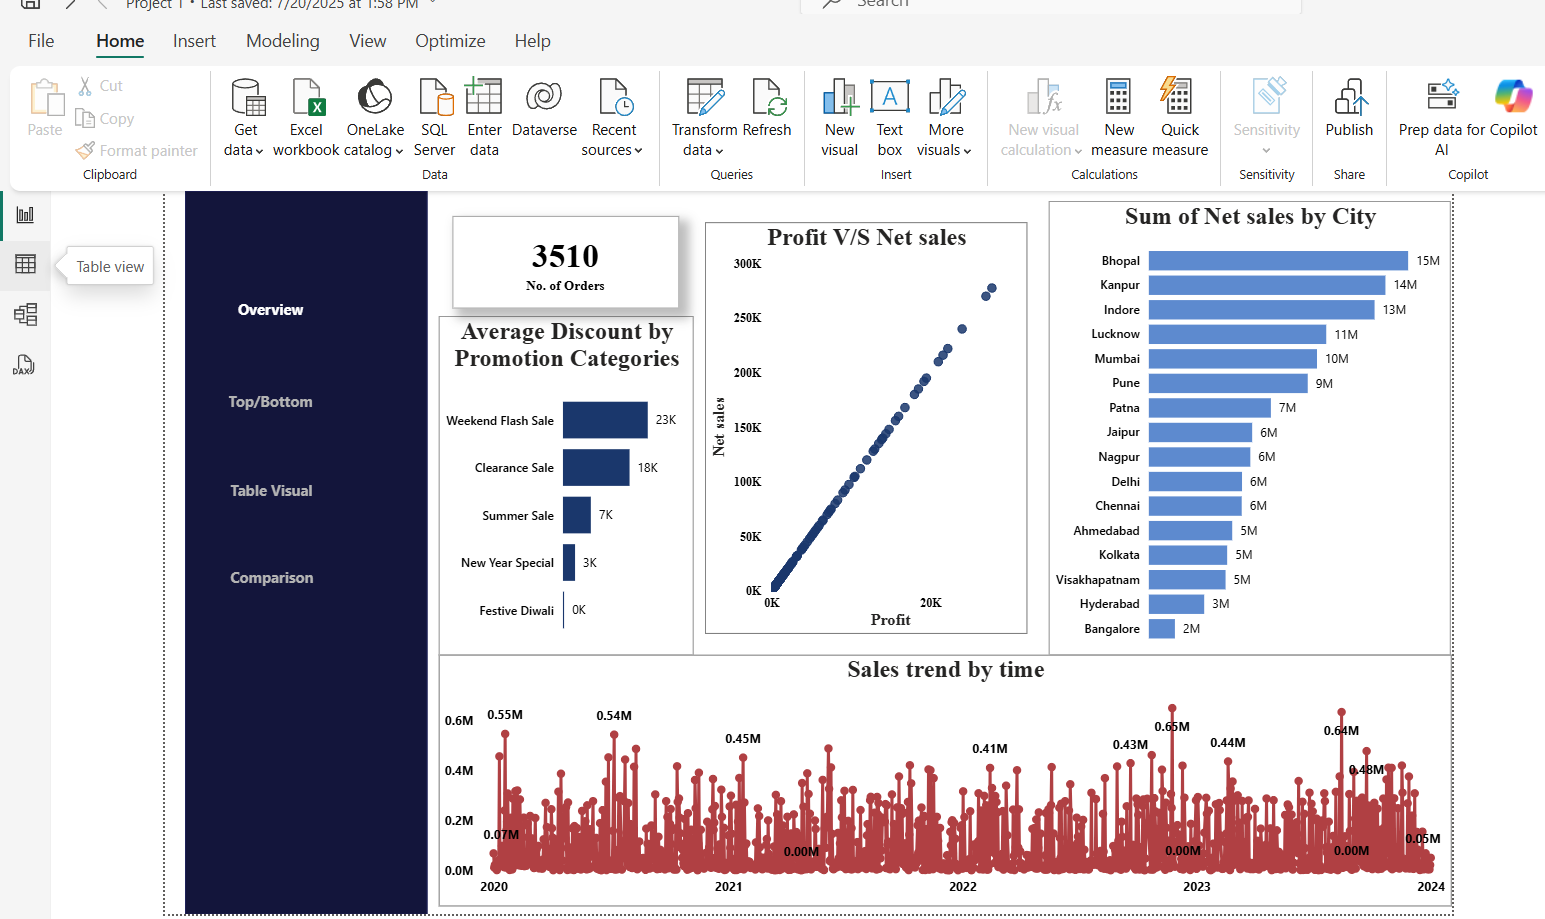

What the dashboard file says about the page in this screenshot:
{"tool":"powerbi","page":{"name":"Overview 1","canvas":[1280,720],"ordinal":0},"visuals":[{"type":"shape","box":[19.9,0,241.3,720.3],"z":0},{"type":"actionButton","title":"Comparison","box":[42.7,360.1,128,46.1],"z":1000},{"type":"actionButton","title":"Table View","box":[41,273.1,129.7,42.7],"z":2000},{"type":"actionButton","title":"Top/Bottom","box":[41,184.3,128,44.4],"z":3000},{"type":"actionButton","title":"Overview","box":[41,95.6,128,44.4],"z":4000},{"type":"lineChart","title":" Sales trend by time","fields":{"Y":["Sum(Facts.Net sales)"],"Category":["Facts.Date (dd/mm/yyyy).Variation.Date Hierarchy.Year"]},"box":[272.4,461.5,1007.6,250],"z":5000},{"type":"scatterChart","title":"Profit V/S Net sales","fields":{"X":["Facts.Profit"],"Y":["Facts.Net sales"]},"box":[536.8,30.7,320.7,409.9],"z":6000},{"type":"barChart","title":"Average Discount  by Promotion Categories","fields":{"Y":["Avg(Facts.Discount Value  )"],"Category":["Dim Promotion.Promotion Name"]},"box":[271.9,124.1,253.8,337.4],"z":7000},{"type":"clusteredBarChart","fields":{"Category":["Dim Customers.City"],"Y":["Sum(Facts.Net sales)"]},"box":[879.8,9.8,400.2,451.8],"z":8000},{"type":"card","fields":{"Values":["CountNonNull(Facts.Total Sales  )"]},"box":[285.8,25.1,225.9,92],"z":9000}]}

Visuals, with their boxes on the page's 1280x720 design canvas (x1, y1, x2, y2). These are canvas units, not pixel positions in the 1545x919 screenshot, which may show the page scaled, cropped or inside an application window:
shape: bbox(20, 0, 261, 720)
"Comparison" actionButton: bbox(43, 360, 171, 406)
"Table View" actionButton: bbox(41, 273, 171, 316)
"Top/Bottom" actionButton: bbox(41, 184, 169, 229)
"Overview" actionButton: bbox(41, 96, 169, 140)
" Sales trend by time" lineChart: bbox(272, 462, 1280, 712)
"Profit V/S Net sales" scatterChart: bbox(537, 31, 858, 441)
"Average Discount  by Promotion Categories" barChart: bbox(272, 124, 526, 462)
clusteredBarChart - Dim Customers.City x Sum(Facts.Net sales): bbox(880, 10, 1280, 462)
card - CountNonNull(Facts.Total Sales  ): bbox(286, 25, 512, 117)
